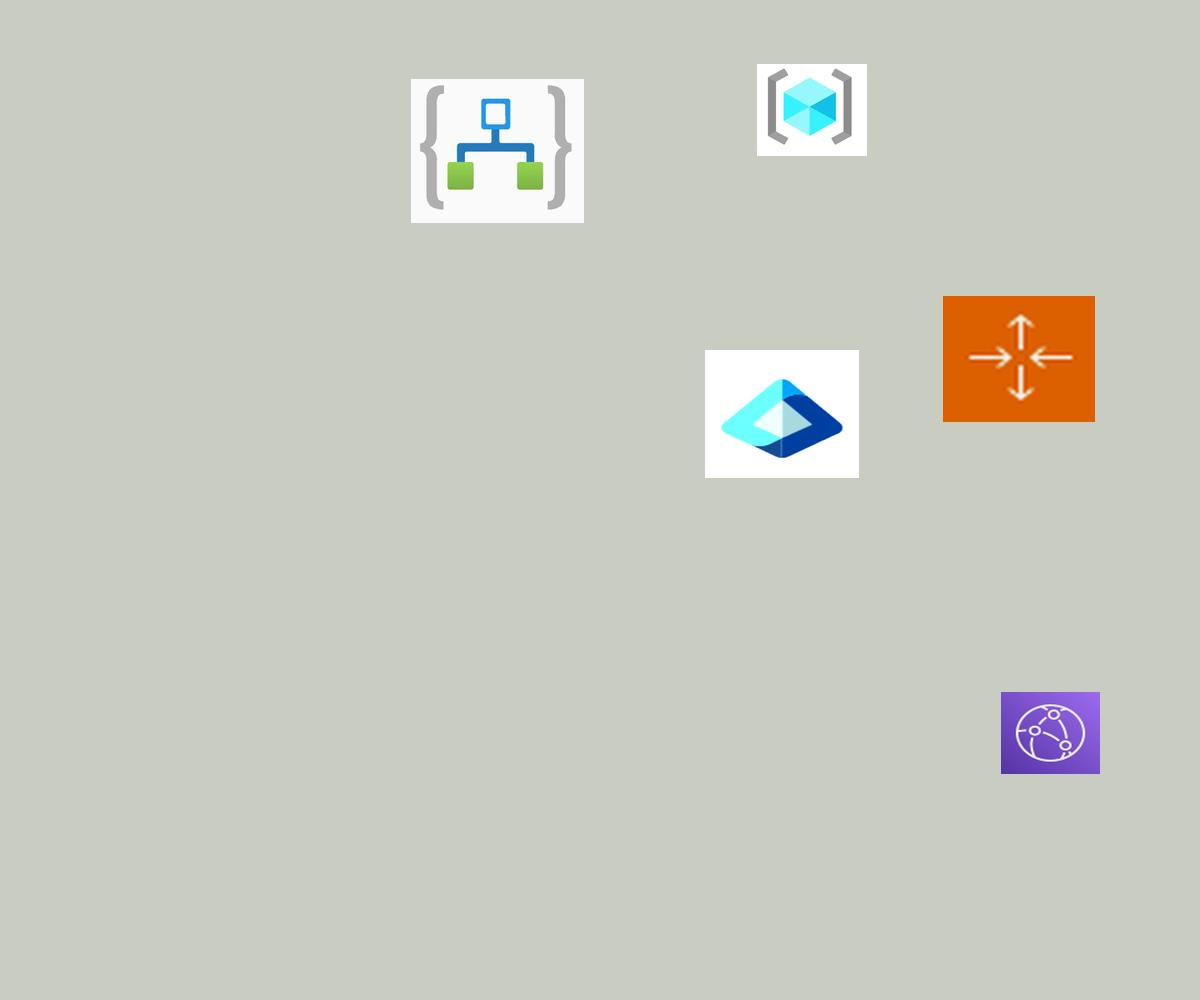AWS-CloudFront: (1001, 692, 1100, 774)
AWS-Scaling-group: (943, 296, 1095, 422)
Azure_integration-204-Logic-Apps: (411, 79, 584, 223)
Azure_microsoft_entra: (705, 350, 859, 478)
Azure_resource_group: (757, 64, 867, 156)
